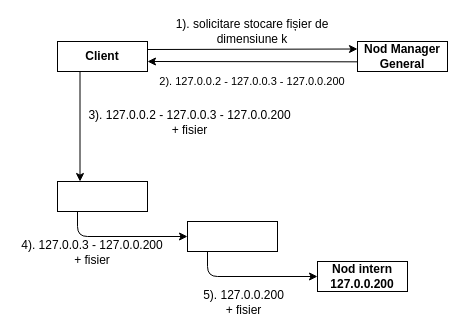
Some shapes in this 465 by 334 pixel diagram are drawn without their labels. The centre of each missing label's shape, as x and y in pixels:
Nod intern 127.0.0.2: [102,196]
Nod intern 127.0.0.3: [232,236]
